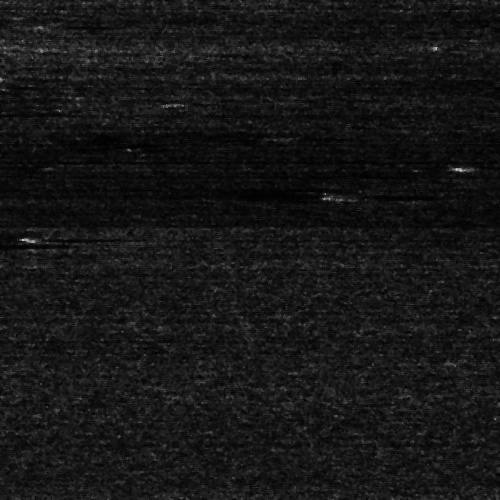object: (317, 193, 380, 198), (447, 163, 500, 168), (9, 235, 50, 238)
shadow: (0, 239, 43, 248), (30, 235, 116, 238), (349, 193, 395, 198), (0, 106, 19, 113), (474, 163, 500, 168)
